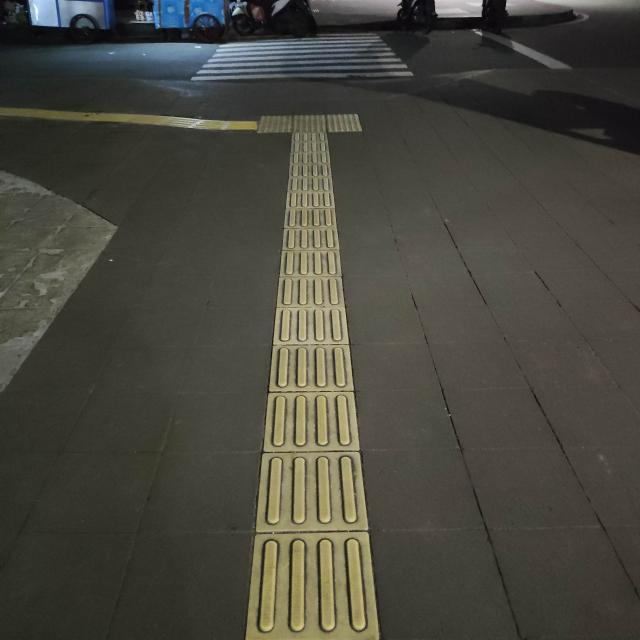kiri: (197, 91, 347, 157)
